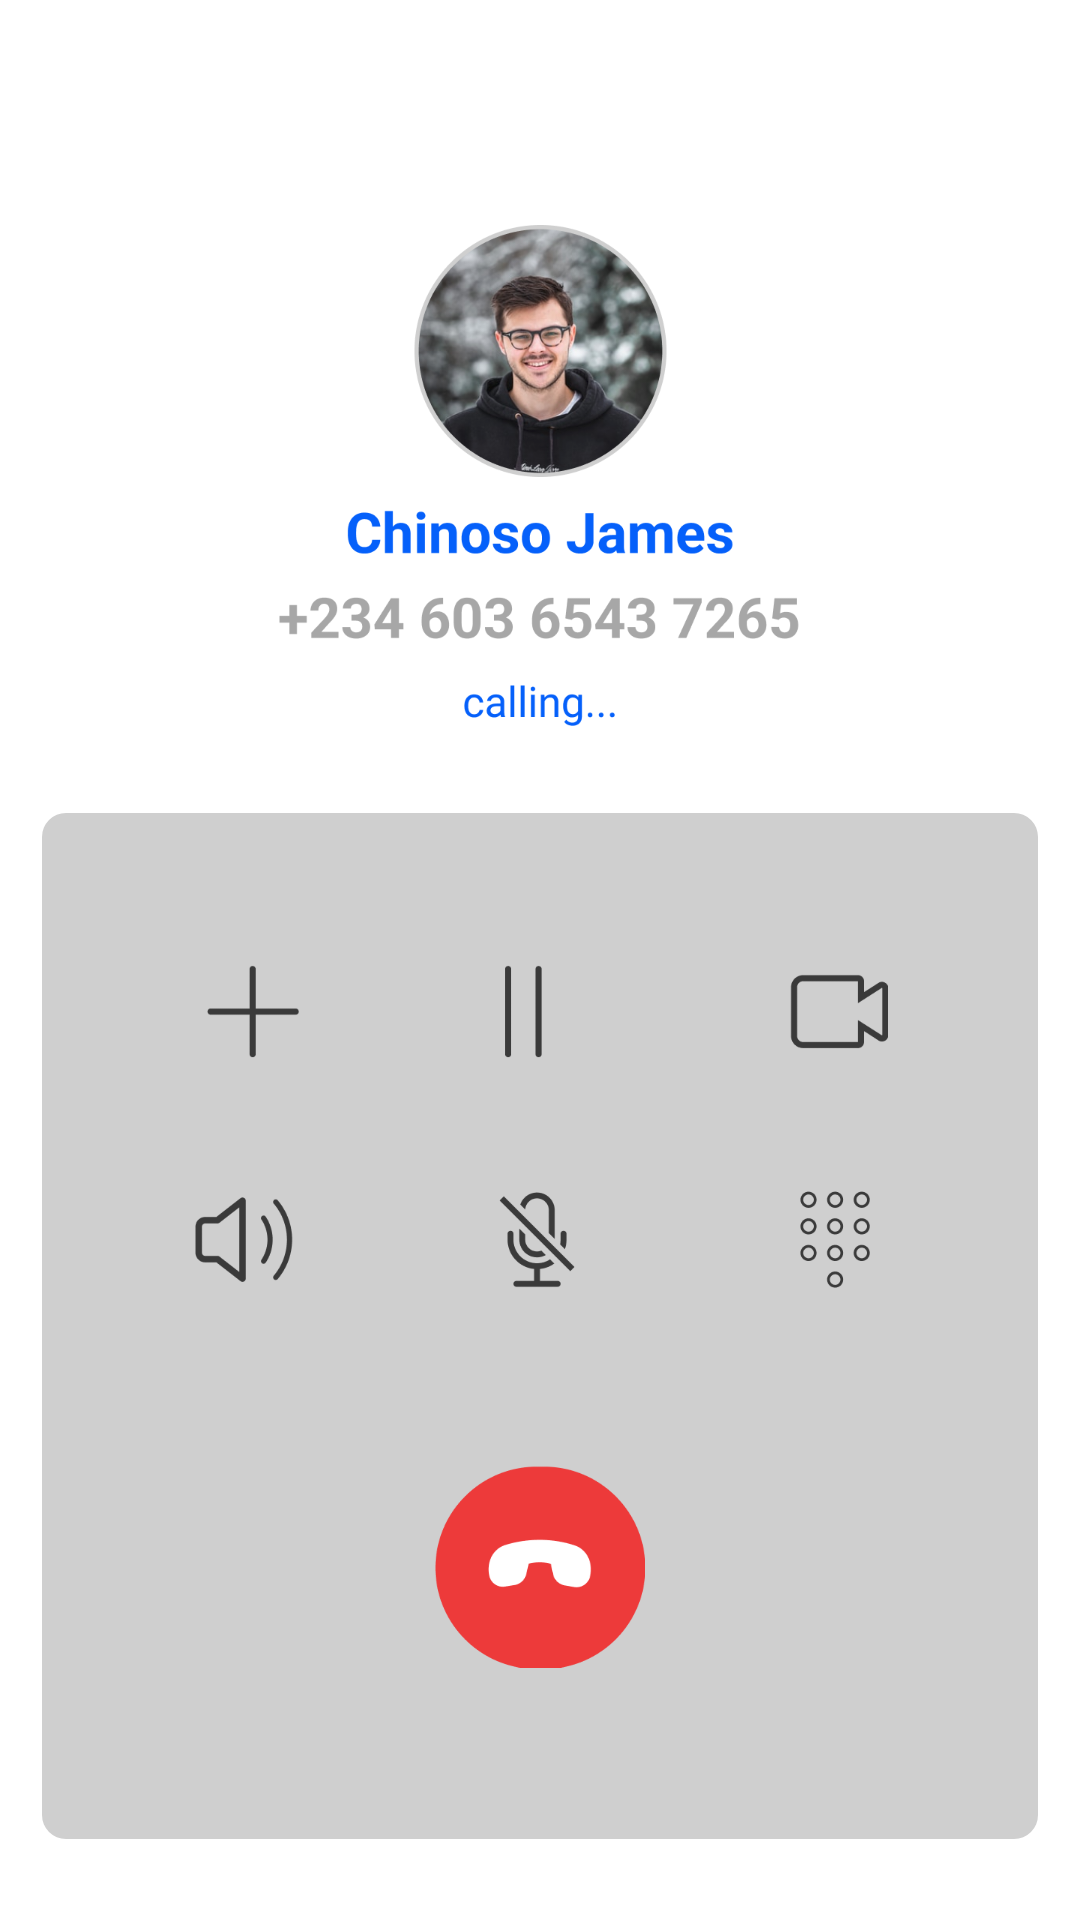

Where to tap for icons on this 1080*1920 app screen, as point (x, y):
phone: point (540, 1567)
